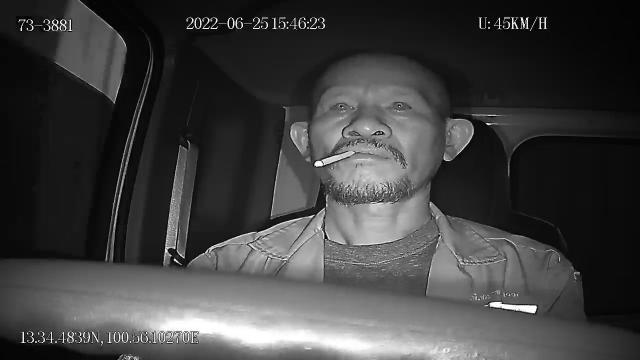SafeDriving: (322, 92, 360, 120), (382, 92, 419, 118)
Smoking: (314, 150, 356, 168)
